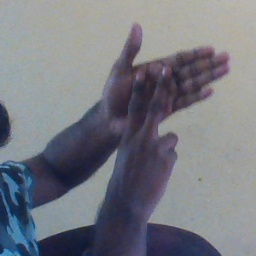N: (90, 18, 234, 173)
